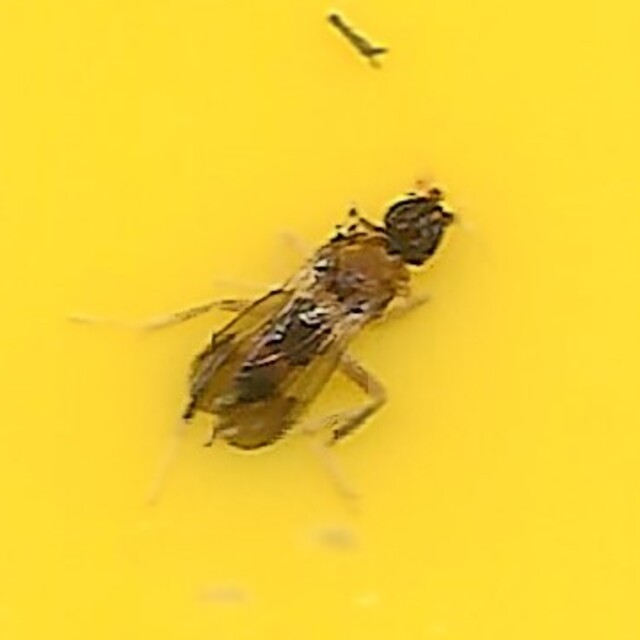Hymenoptera: (178, 188, 462, 452)
